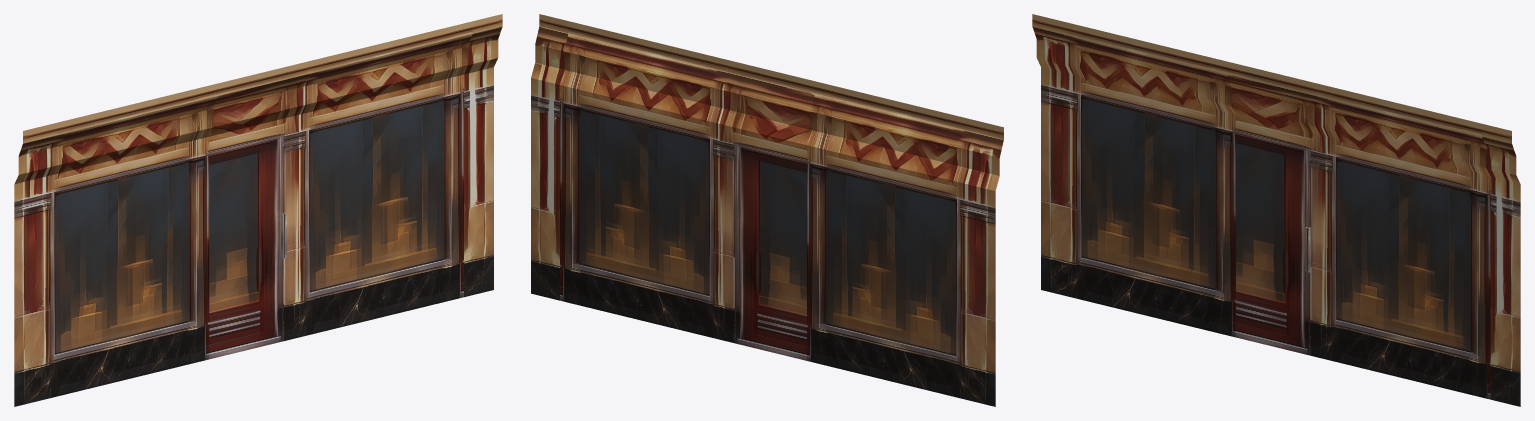
The model's file is DECO_G_Bay8B.fbx.
3 views of the same model, side by side, from view 1: azimuth 30°, elevation 25°; view 2: azimuth 150°, elevation 25°; view 3: azimuth 330°, elevation 25° (orthographic). The views are drawn at different scales.
Parts seen in each view (by area): view 1: DECO_G_Bay8B; view 2: DECO_G_Bay8B; view 3: DECO_G_Bay8B.
Part boxes in pixels (x1,y1,x2,y2): DECO_G_Bay8B: (14, 14, 502, 406); DECO_G_Bay8B: (531, 14, 1003, 406); DECO_G_Bay8B: (1032, 14, 1520, 406).
Size of the model in its own units: 8 by 0.25 by 4.5.
Materials: 1 (1 with a texture image).
